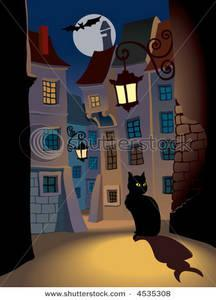cat: (121, 171, 161, 240)
